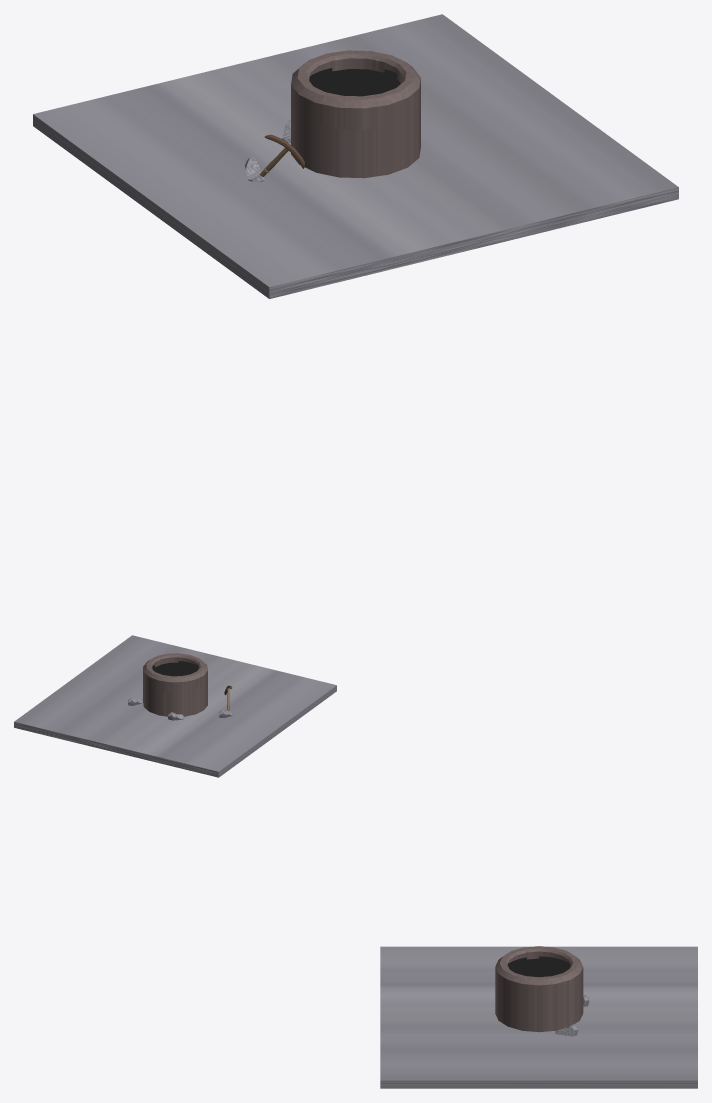
3 views of the same model, one above another, from view 1: azimuth 30°, elevation 25°; view 2: azimuth 150°, elevation 25°; view 3: azimuth 270°, elevation 25° (orthographic). The views are drawn at different scales.
Visible parts, largest first — view 1: 立方体, jin, 柱体; view 2: 立方体, jin, 柱体; view 3: 立方体, jin, 柱体.
Boxes of the visible parts, <box> form: 立方体: <box>33,14,678,298</box>; jin: <box>291,50,420,178</box>; 柱体: <box>309,68,400,96</box>; 立方体: <box>14,635,336,777</box>; jin: <box>143,653,207,716</box>; 柱体: <box>152,661,198,676</box>; 立方体: <box>380,946,697,1088</box>; jin: <box>495,946,583,1032</box>; 柱体: <box>507,956,570,977</box>.
Size of what is drawn, in the model's own units: 15070 by 1469 by 15490.
5 materials, 4 textured.
